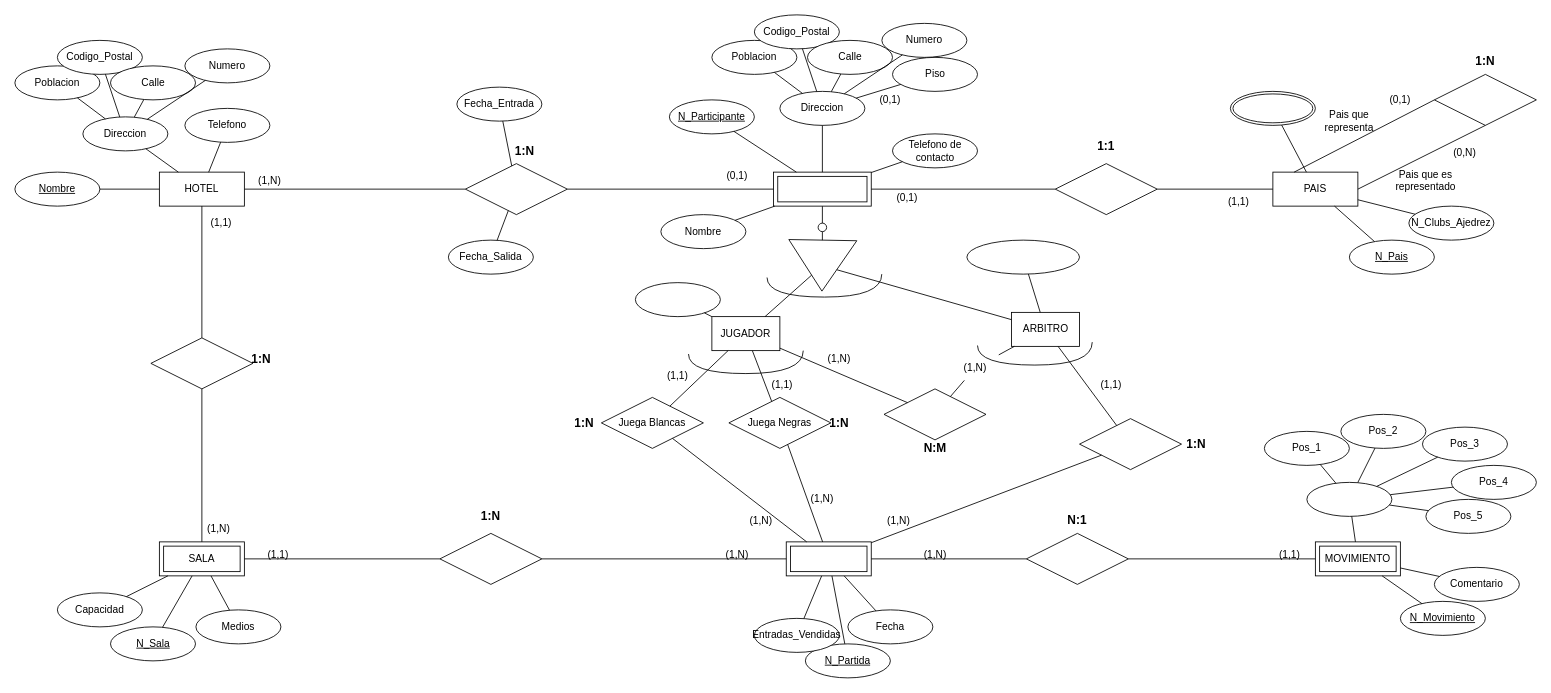
This 1551x693 diagram has some shape labels left out. The shapes that lost their labels are listed below. From the top down, each one's box as (x1, y1, x2, y2) in pixels, then its label:
(1230, 91, 1315, 125): Nombre_Clubs
(1434, 74, 1536, 125): Representa
(465, 163, 567, 215): Se hospeda
(773, 171, 871, 206): PARTICIPANTE
(1054, 163, 1157, 215): Envian
(966, 239, 1080, 274): Años_De_Experiencia
(635, 282, 720, 317): Nivel_De_Juego
(150, 337, 253, 389): Pertenece a
(883, 388, 986, 440): Es de mismo pais
(1079, 418, 1182, 470): Arbitra
(1306, 482, 1392, 516): Jugada
(439, 533, 542, 584): Se celebra en
(785, 541, 871, 576): PARTIDA
(1026, 533, 1128, 584): Se ejecutan
